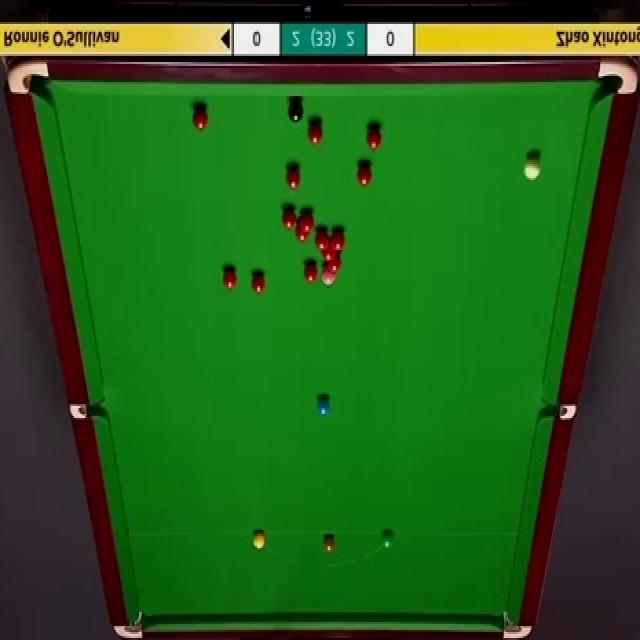black-ball: (286, 102, 304, 126)
blue-ball: (316, 398, 331, 415)
brown-ball: (324, 534, 335, 552)
green-ball: (380, 530, 395, 552)
pink-ball: (321, 266, 336, 286)
red-ball: (307, 117, 324, 146), (356, 163, 373, 188), (285, 164, 300, 192), (325, 250, 342, 274), (192, 106, 209, 129), (367, 126, 382, 150), (301, 262, 319, 282), (281, 207, 296, 231), (251, 274, 266, 297), (222, 268, 238, 288), (331, 232, 346, 252), (296, 222, 309, 242), (301, 212, 314, 232), (316, 232, 328, 250)
white-ball: (524, 159, 540, 181)
yellow-ball: (253, 530, 265, 550)
